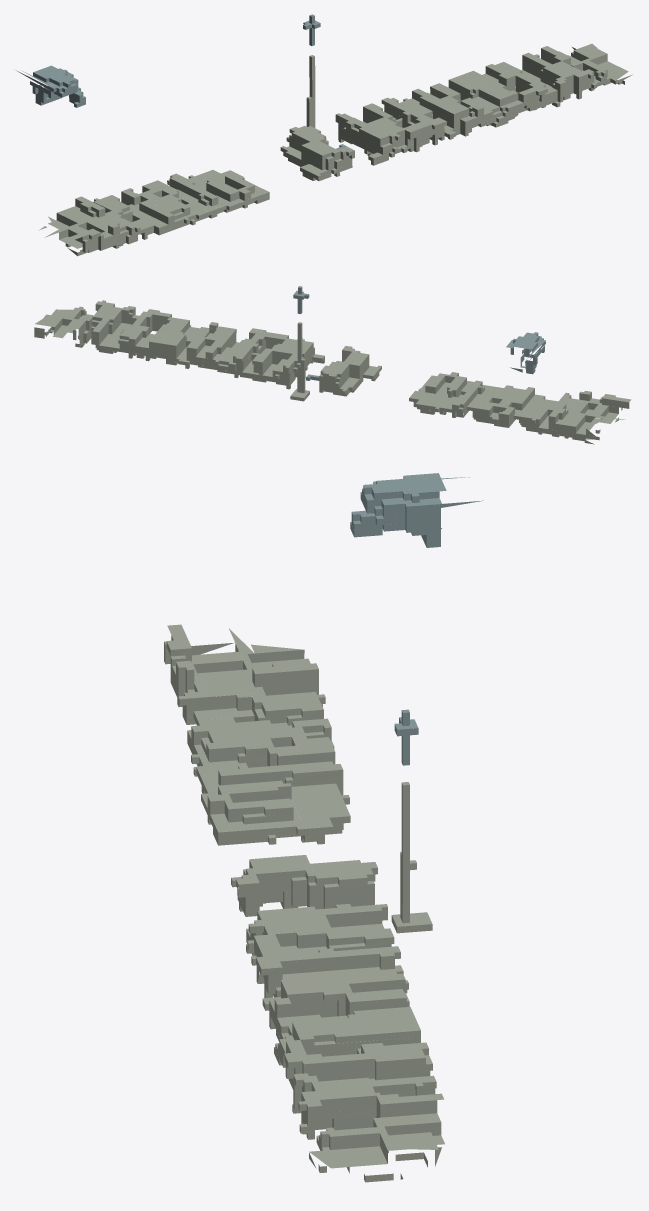
The picture shows the model from 3 angles, top to bottom: view 1: azimuth 30°, elevation 25°; view 2: azimuth 150°, elevation 25°; view 3: azimuth 270°, elevation 25°; orthographic projection. The views are drawn at different scales.
Parts seen in each view (by area): view 1: measured-industrial; view 2: measured-industrial; view 3: measured-industrial.
Boxes of the visible parts, box(x1,y1,x2,y2) form: measured-industrial: box(16, 14, 632, 256); measured-industrial: box(34, 286, 631, 444); measured-industrial: box(164, 473, 483, 1182).
Size of the model in its own units: 275 by 52.58 by 66.53.
